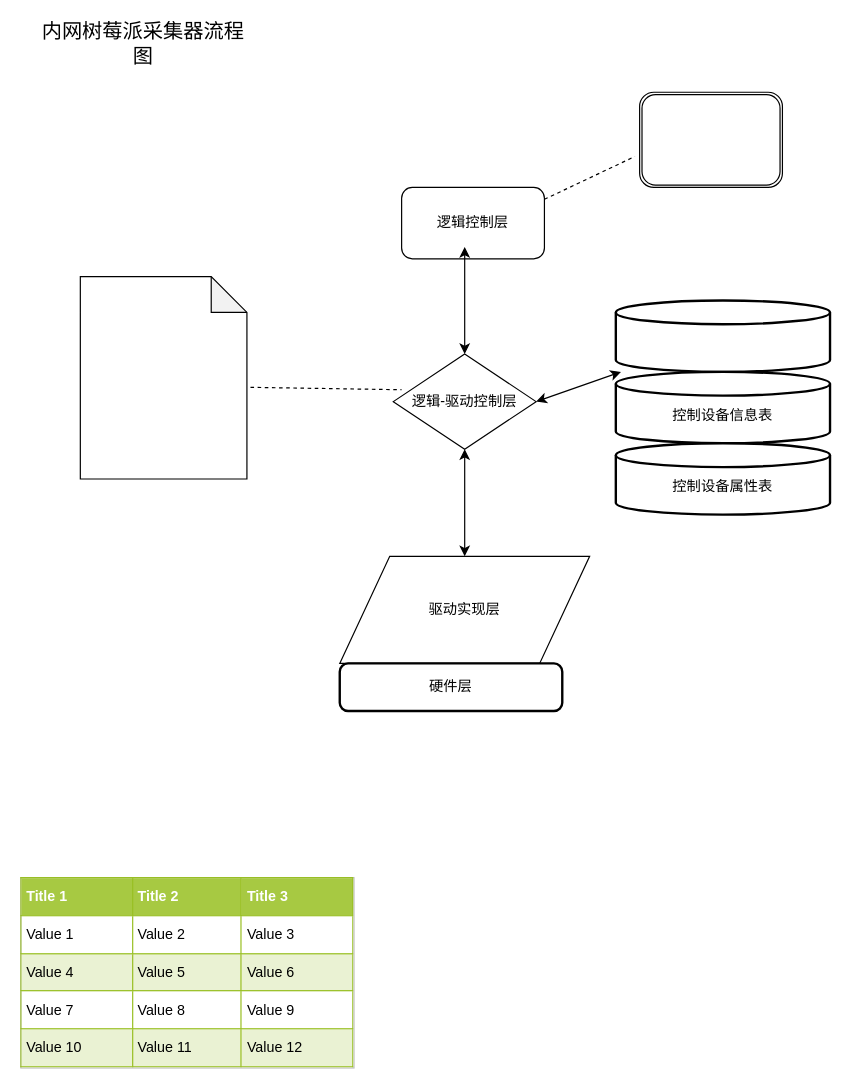
This 852x1089 diagram has some shape labels left out. Each missing label, with the box of its shape:
1.把逻辑点位信息转换成对应的控制设备信息. 2. 根据设备相关信息,调用驱动层程序来和物理硬件交互: (79, 275, 247, 479)
根据业务逻辑,对点位属性进行操作: (638, 91, 782, 187)
点位 - 控制设备映射表: (614, 299, 831, 372)
